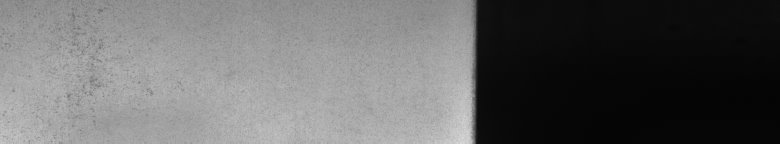ib: (64, 4, 153, 102)
